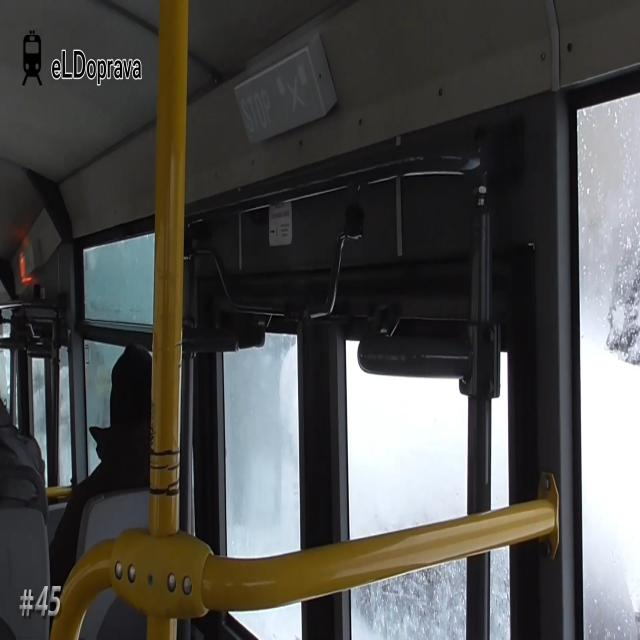bus-door: (191, 228, 517, 640)
